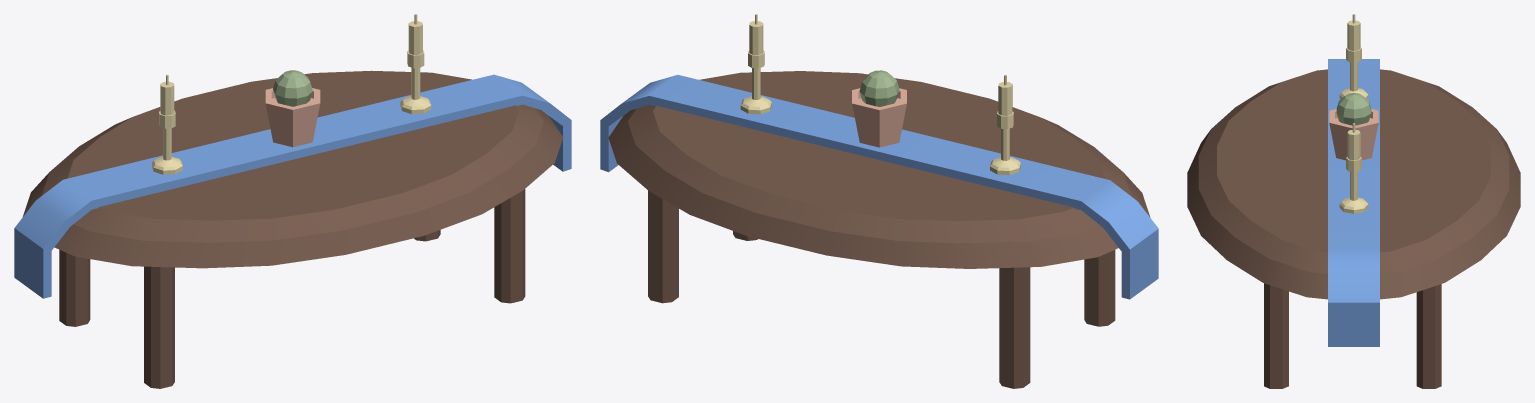
File: geo_LowBreakfastTable_01.fbx
The picture shows the model from 3 angles, left to right: view 1: azimuth 30°, elevation 25°; view 2: azimuth 150°, elevation 25°; view 3: azimuth 270°, elevation 25°; orthographic projection. The views are drawn at different scales.
Visible parts, largest first — view 1: geo_tableTop_01, geo_tableRunner_01, geo_tableLeg_02, geo_tableLeg_04, geo_tableLeg_01, geo_PlantContainer_01, geo_candleTableTop_05, geo_candleTableTop_04, geo_plantShrub_01; view 2: geo_tableTop_01, geo_tableRunner_01, geo_tableLeg_01, geo_tableLeg_03, geo_PlantContainer_01, geo_tableLeg_02, geo_candleTableTop_05, geo_candleTableTop_04, geo_plantShrub_01; view 3: geo_tableTop_01, geo_tableRunner_01, geo_tableLeg_03, geo_tableLeg_04, geo_PlantContainer_01, geo_candleTableTop_05, geo_candleTableTop_04, geo_plantShrub_01.
Part boxes in pixels (bbox=[...]): geo_tableTop_01: bbox=[23, 70, 563, 268]; geo_tableRunner_01: bbox=[14, 74, 571, 298]; geo_tableLeg_02: bbox=[144, 266, 174, 388]; geo_tableLeg_04: bbox=[494, 189, 525, 303]; geo_tableLeg_01: bbox=[59, 250, 90, 326]; geo_PlantContainer_01: bbox=[265, 88, 320, 147]; geo_candleTableTop_05: bbox=[400, 14, 431, 113]; geo_candleTableTop_04: bbox=[152, 74, 182, 174]; geo_plantShrub_01: bbox=[273, 70, 312, 106]; geo_tableTop_01: bbox=[608, 71, 1150, 268]; geo_tableRunner_01: bbox=[600, 75, 1158, 299]; geo_tableLeg_01: bbox=[999, 267, 1030, 388]; geo_tableLeg_03: bbox=[648, 190, 678, 303]; geo_PlantContainer_01: bbox=[852, 88, 906, 147]; geo_tableLeg_02: bbox=[1084, 250, 1115, 326]; geo_candleTableTop_05: bbox=[740, 14, 771, 114]; geo_candleTableTop_04: bbox=[990, 74, 1020, 175]; geo_plantShrub_01: bbox=[859, 70, 899, 106]; geo_tableTop_01: bbox=[1187, 69, 1520, 299]; geo_tableRunner_01: bbox=[1328, 59, 1379, 346]; geo_tableLeg_03: bbox=[1416, 284, 1441, 388]; geo_tableLeg_04: bbox=[1264, 283, 1288, 388]; geo_PlantContainer_01: bbox=[1329, 109, 1378, 160]; geo_candleTableTop_05: bbox=[1339, 123, 1368, 213]; geo_candleTableTop_04: bbox=[1339, 14, 1368, 99]; geo_plantShrub_01: bbox=[1336, 93, 1371, 125].
Size of the model in its own units: 159 by 75.53 by 96.02.
